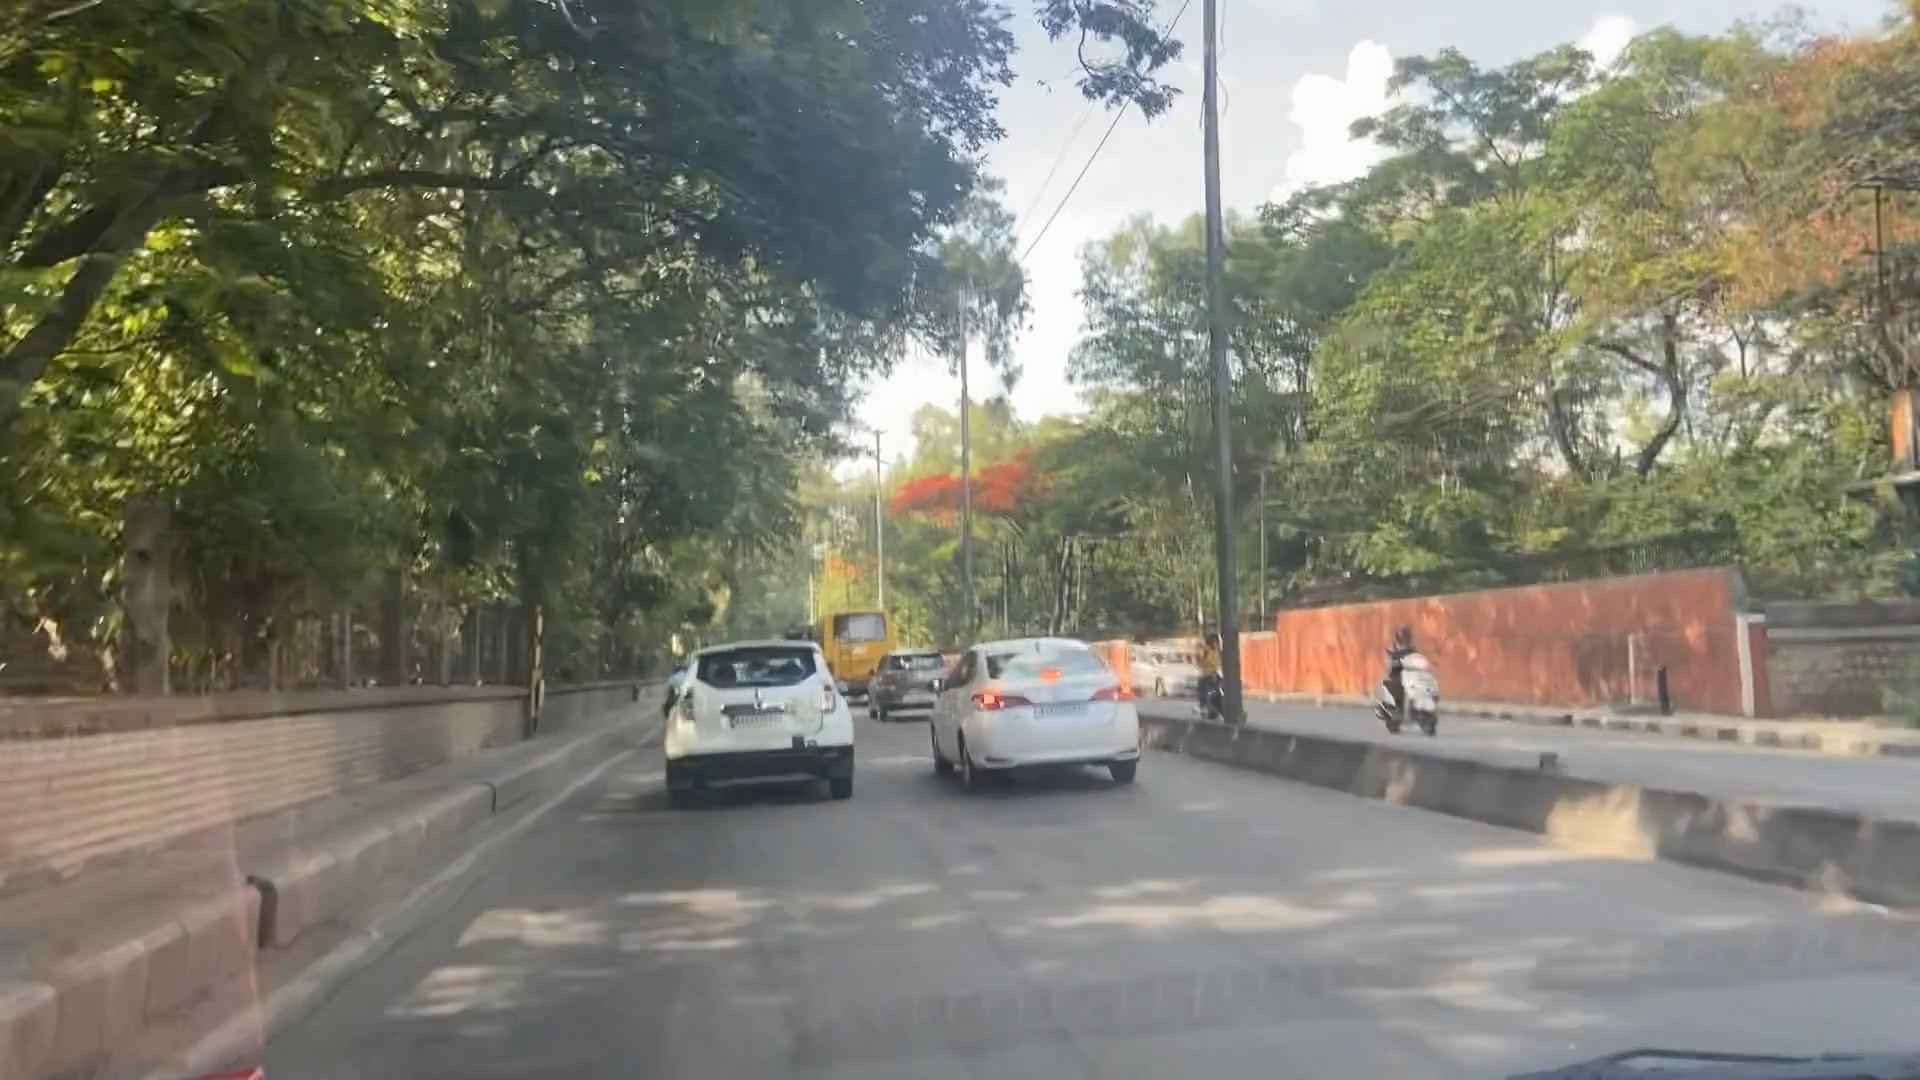LMV: (934, 638, 1143, 781), (669, 646, 851, 789)
